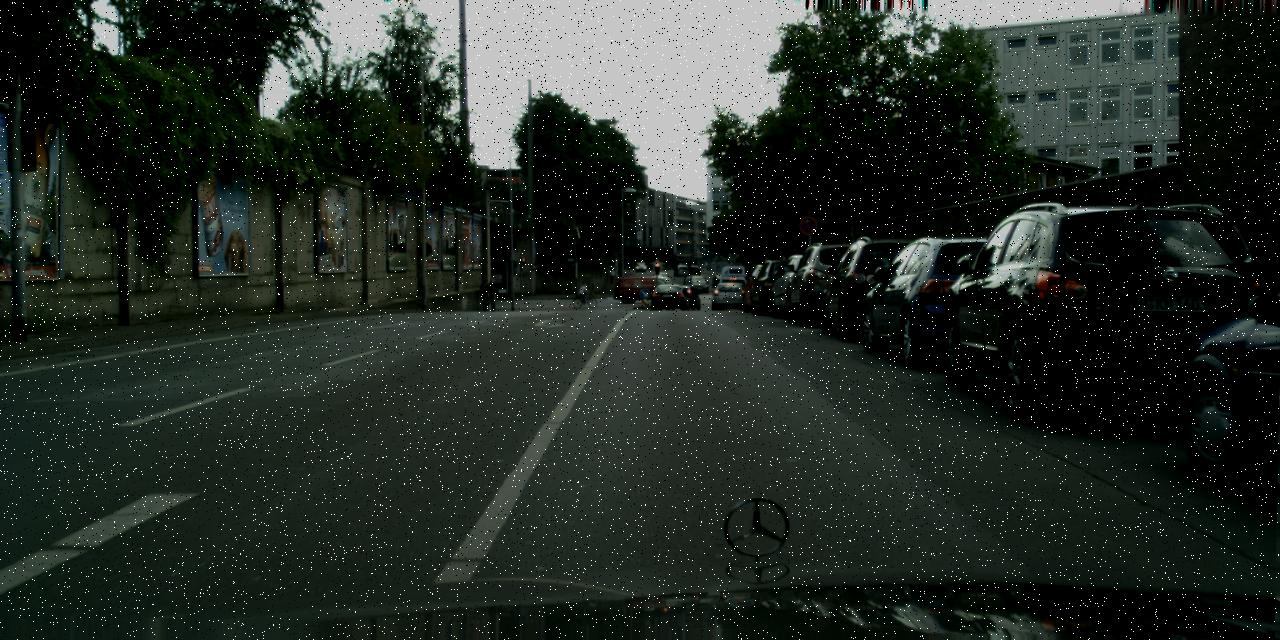ped: (484, 276, 498, 312), (477, 278, 491, 312), (580, 283, 588, 303), (608, 268, 614, 284), (682, 278, 692, 286)
